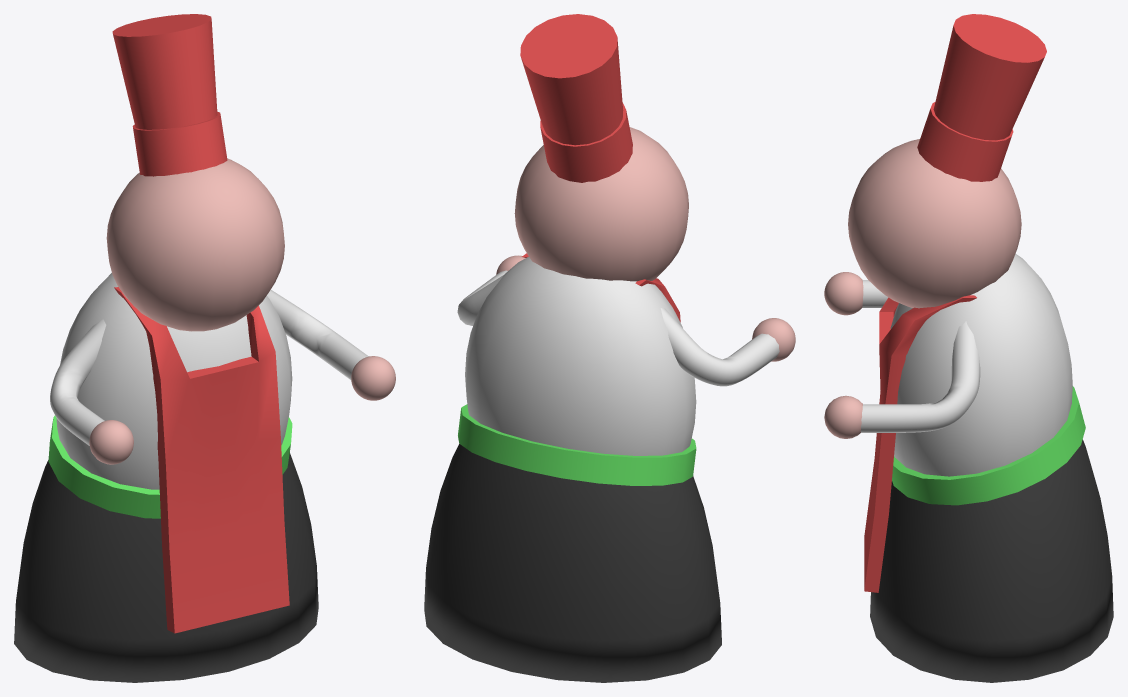
Rendered from redPlayer_1.fbx.
3 renders of one model, left to right at view 1: azimuth 30°, elevation 25°; view 2: azimuth 150°, elevation 25°; view 3: azimuth 270°, elevation 25°, orthographic. The views are drawn at different scales.
Parts seen in each view (by area): view 1: skirt, apron, head, chest, pCylinder1, arm (×2), pCylinder2, belt, pSphere1 (×2); view 2: skirt, chest, head, pCylinder1, belt, arm (×2), pCylinder2, pSphere1; view 3: skirt, chest, head, pCylinder1, apron, belt, arm (×2), pCylinder2, pSphere1 (×2).
Part boxes in pixels (x1=…): skirt: x1=14, y1=452, x2=318, y2=682; apron: x1=114, y1=287, x2=289, y2=633; head: x1=106, y1=158, x2=284, y2=331; chest: x1=56, y1=273, x2=292, y2=489; pCylinder1: x1=112, y1=14, x2=217, y2=129; arm (×2): x1=50, y1=290, x2=368, y2=445; pCylinder2: x1=132, y1=111, x2=227, y2=176; belt: x1=48, y1=415, x2=292, y2=518; pSphere1 (×2): x1=89, y1=356, x2=395, y2=464; skirt: x1=424, y1=444, x2=721, y2=682; chest: x1=465, y1=256, x2=696, y2=455; head: x1=514, y1=127, x2=688, y2=281; pCylinder1: x1=520, y1=14, x2=623, y2=145; belt: x1=458, y1=404, x2=696, y2=485; arm (×2): x1=457, y1=270, x2=779, y2=386; pCylinder2: x1=540, y1=103, x2=632, y2=182; pSphere1: x1=752, y1=318, x2=795, y2=361; skirt: x1=870, y1=439, x2=1113, y2=682; chest: x1=890, y1=253, x2=1072, y2=476; head: x1=848, y1=139, x2=1021, y2=308; pCylinder1: x1=933, y1=14, x2=1046, y2=140; apron: x1=864, y1=295, x2=976, y2=592; belt: x1=892, y1=386, x2=1085, y2=505; arm (×2): x1=860, y1=280, x2=980, y2=432; pCylinder2: x1=917, y1=102, x2=1013, y2=181; pSphere1 (×2): x1=824, y1=272, x2=863, y2=438.
Bounding box in the file's own units: 23.24 × 45.1 × 20.
